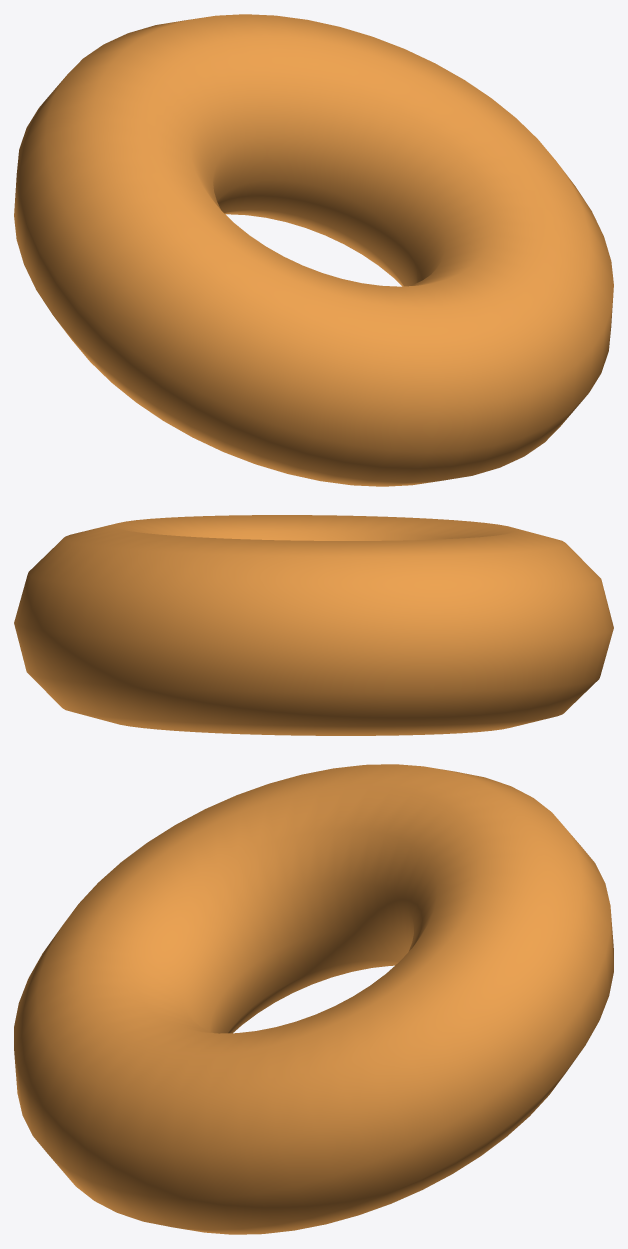
3 views of the same model, one above another, from view 1: azimuth 30°, elevation 25°; view 2: azimuth 150°, elevation 25°; view 3: azimuth 270°, elevation 25° (orthographic). The views are drawn at different scales.
Parts seen in each view (by area): view 1: Torus; view 2: Torus; view 3: Torus.
Boxes of the visible parts, <box> form: Torus: <box>14,14,613,486</box>; Torus: <box>14,515,613,735</box>; Torus: <box>14,764,613,1234</box>.
Bounding box in the file's own units: 2.92 × 1.68 × 2.83.
